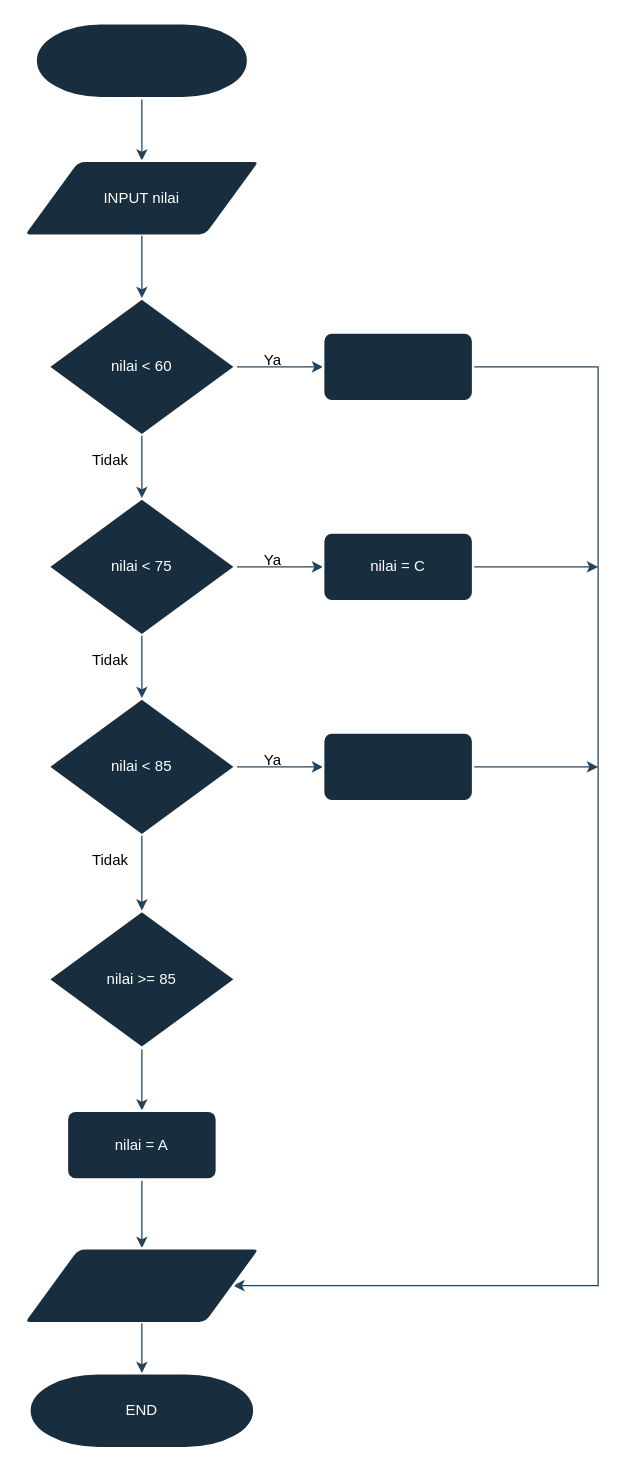
Image size: 630x1470. Some labels were removed from this diagram. The shapes that lost their labels are listed below. From the top down, each one's centre as x and y in pixels, then its label:
At pixel 141 60: "START".
At pixel 397 366: "nilai = D".
At pixel 397 766: "nilai = B".
At pixel 141 1285: "OUTPUT hasil nilai".
